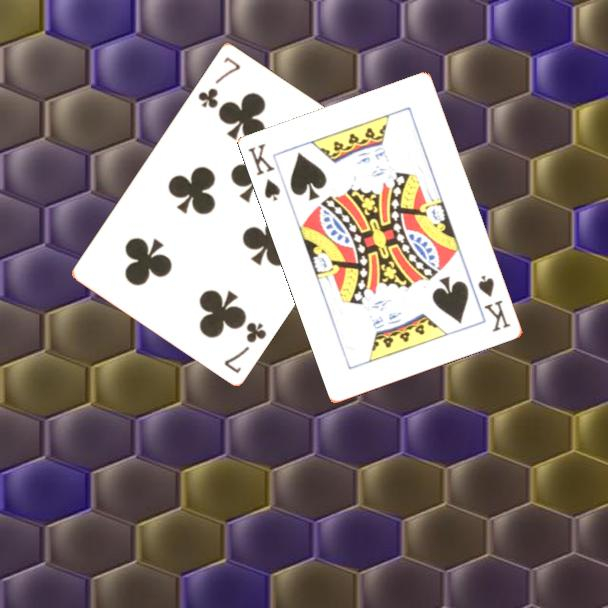c07: (194, 53, 244, 111), (220, 318, 269, 376)
s13: (245, 140, 284, 204), (475, 272, 514, 335)
